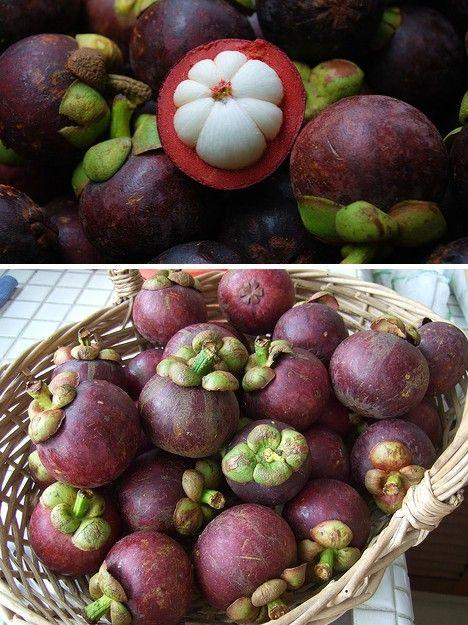mang_cut: (291, 92, 453, 252), (16, 375, 146, 490), (194, 504, 300, 619), (140, 355, 244, 460), (87, 530, 194, 623), (331, 325, 433, 421)
